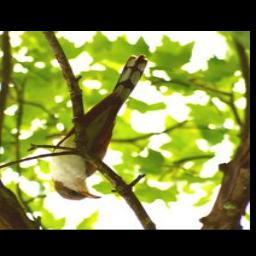Cuckoo: (50, 54, 150, 202)
